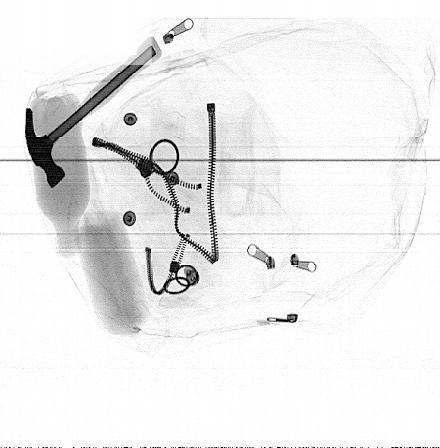Hammer: (24, 35, 163, 189)
